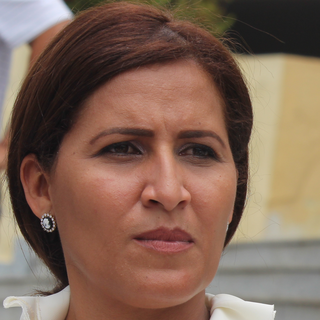eye: (86, 136, 150, 164), (169, 139, 226, 164)
